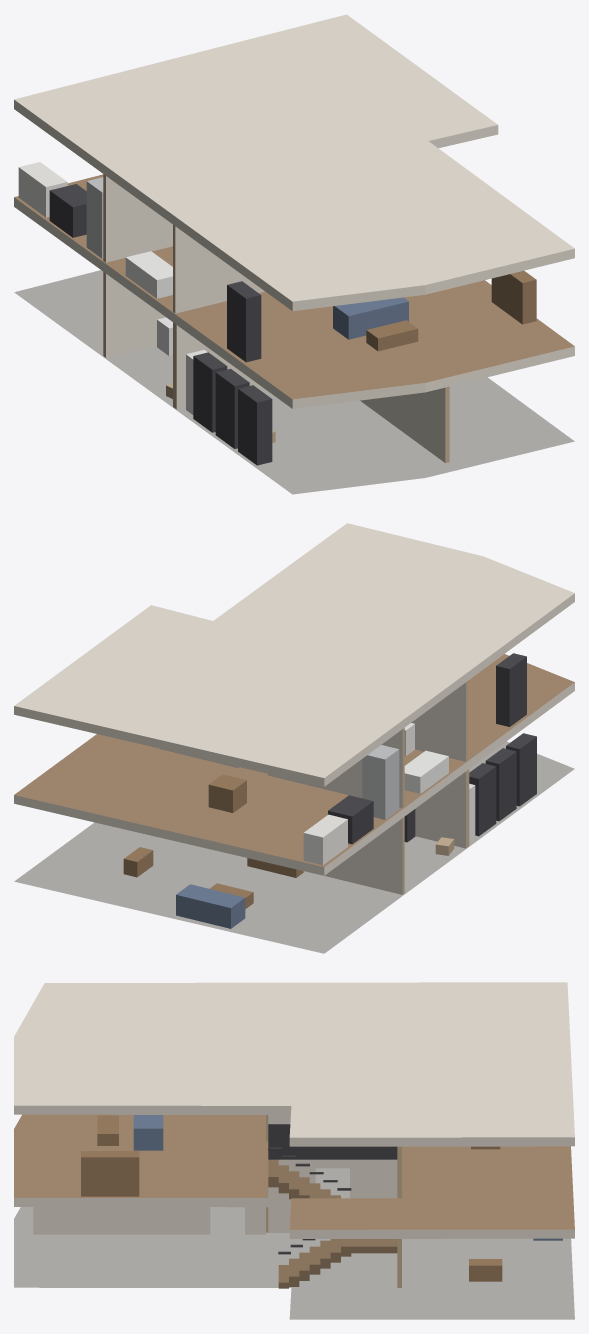
The model's file is interior.glb.
The picture shows the model from 3 angles, top to bottom: view 1: azimuth 30°, elevation 25°; view 2: azimuth 150°, elevation 25°; view 3: azimuth 270°, elevation 25°; orthographic projection. The views are drawn at different scales.
Visible parts, largest first — view 1: slabs, partitions, coarse-s1, coarse-s0; view 2: slabs, partitions, coarse-s1, coarse-s0; view 3: slabs, partitions, stair, coarse-s1, coarse-s0.
Part boxes in pixels (x1,y1,x2,y2): slabs: (14, 14, 574, 494); partitions: (103, 174, 449, 462); coarse-s1: (18, 162, 536, 362); coarse-s0: (157, 317, 275, 465); slabs: (14, 523, 574, 953); partitions: (160, 681, 469, 894); coarse-s1: (208, 653, 526, 865); coarse-s0: (123, 733, 536, 928); slabs: (14, 982, 574, 1319); partitions: (33, 1115, 401, 1287); stair: (268, 1124, 397, 1288); coarse-s1: (81, 1115, 500, 1196); coarse-s0: (469, 1238, 562, 1281).
Bounding box in the file's own units: 9.57 × 5.25 × 14.6.
